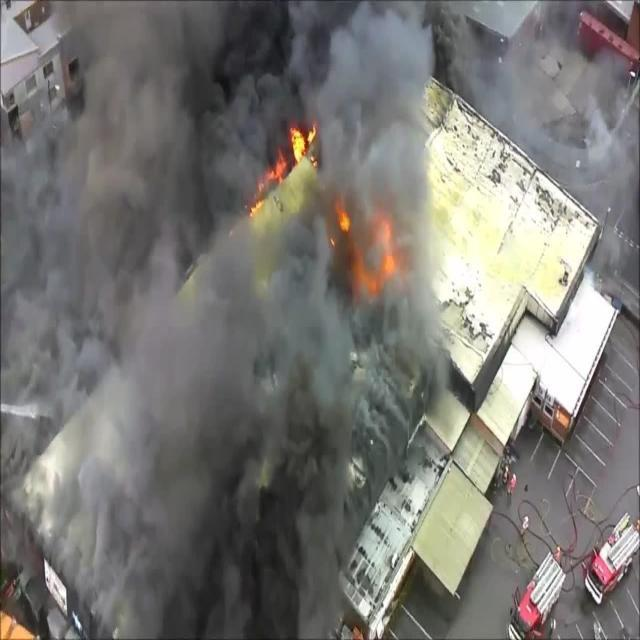Smoke: (144, 351, 290, 634)
